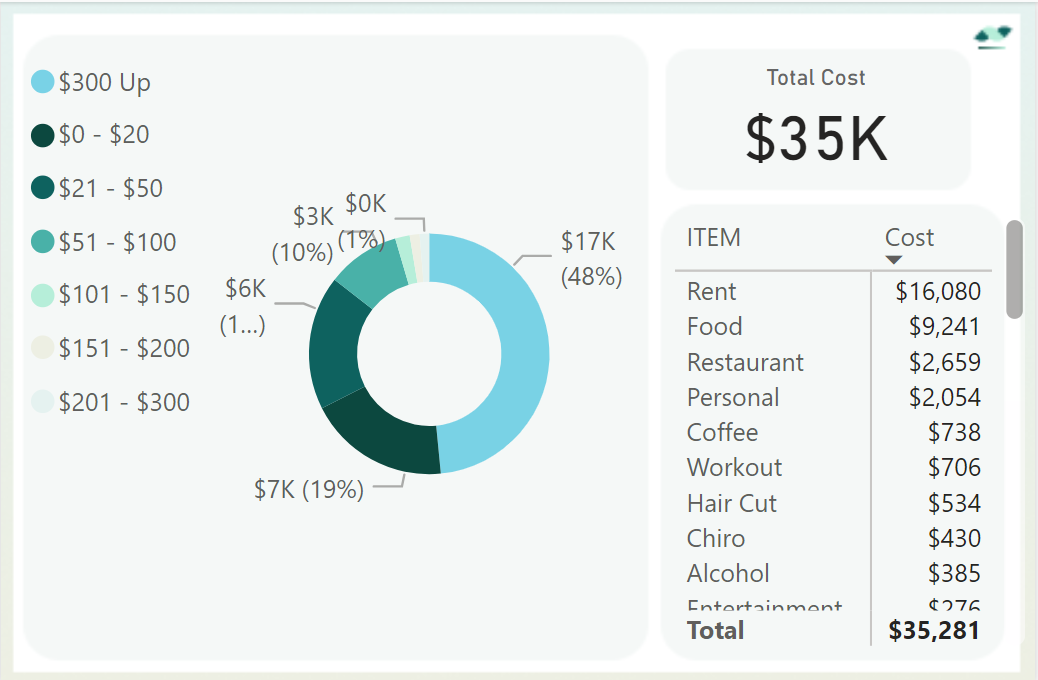

The page's visual inventory and layout, read from the dashboard file:
{"tool":"powerbi","page":{"name":"Month ToolTip","canvas":[440,290],"ordinal":2},"visuals":[{"type":"card","title":"Total Cost","fields":{"Values":["Sum(df.COST)"]},"box":[290.7,21.3,111.6,57.3],"z":0},{"type":"donutChart","title":"By Location","fields":{"Y":["Sum(df.COST)"],"Category":["df.Cost Range"]},"box":[10.2,16.9,265.8,262.2],"z":1000},{"type":"pivotTable","fields":{"Rows":["df.ITEM"],"Values":["Sum(df.COST)"]},"box":[281.3,86.7,158.7,192.4],"z":2000}]}

Visuals, with their boxes in screenshot pixels (x1, y1, x2, y2), scaled from the page's 440x290 canvas onto the 1038x680 screenshot:
"Total Cost" card: (left=686, top=50, right=949, bottom=184)
"By Location" donutChart: (left=24, top=40, right=651, bottom=654)
pivotTable - df.ITEM x Sum(df.COST): (left=664, top=203, right=1037, bottom=654)
